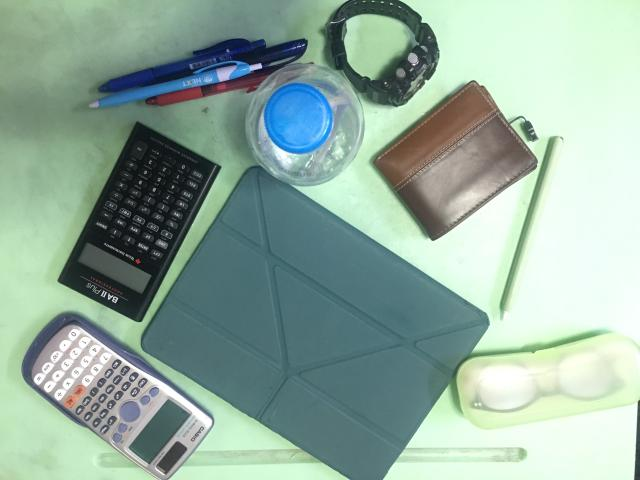Glasses: (456, 334, 640, 429)
Pen: (83, 32, 312, 114)
Wallet: (374, 81, 538, 240)
Watch: (326, 0, 440, 106)
bottle: (246, 64, 364, 186)
